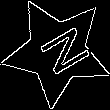N_SW: (25, 21, 89, 81)
